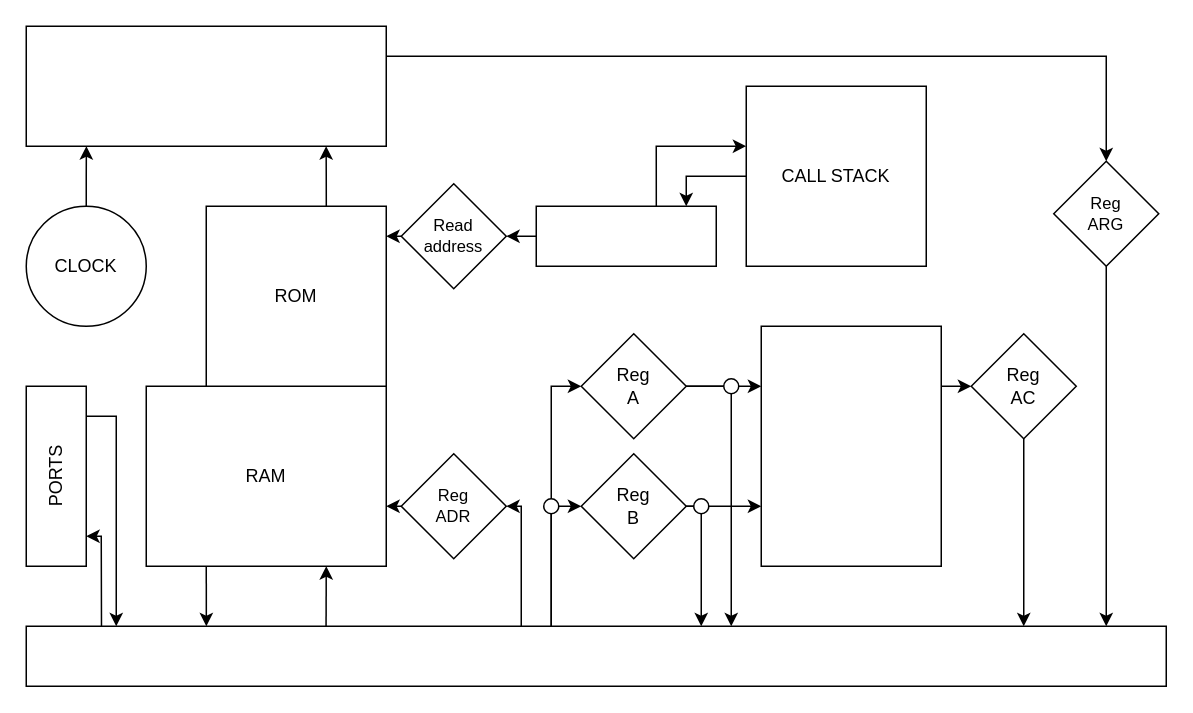
Image size: 1193x713. Some labels were removed from this diagram. The box of each missing label's shape, as (x1, y1, x2, y2) in pixels:
ALU: (760, 325, 941, 566)
BUS: (25, 625, 1166, 686)
COUNTER: (535, 205, 716, 266)
Micro instruction lookup table: (25, 25, 386, 146)
